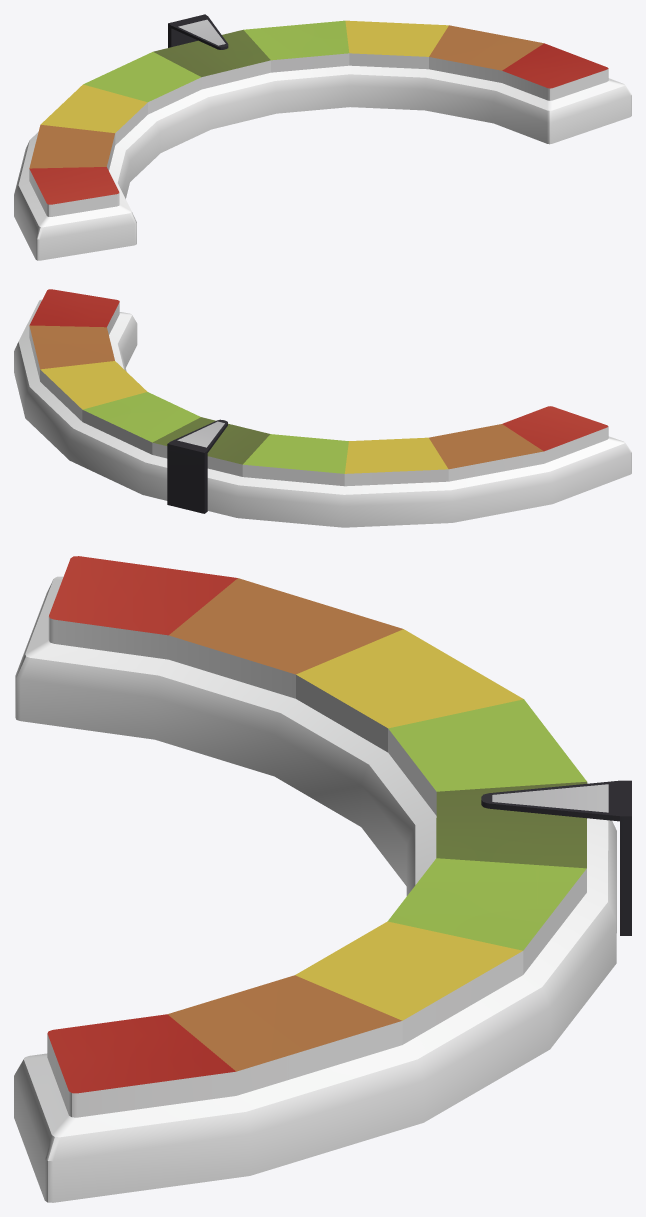
Rendered from DamageIndicator.fbx.
3 views of the same model, one above another, from view 1: azimuth 30°, elevation 25°; view 2: azimuth 150°, elevation 25°; view 3: azimuth 270°, elevation 25° (orthographic). The views are drawn at different scales.
Visible parts, largest first — view 1: DamageIndicator, Indicator; view 2: DamageIndicator, Indicator; view 3: DamageIndicator, Indicator.
Part boxes in pixels (x1,y1,x2,y2): DamageIndicator: (14, 20, 631, 260); Indicator: (168, 14, 228, 49); DamageIndicator: (14, 289, 631, 527); Indicator: (167, 419, 227, 513); DamageIndicator: (14, 556, 616, 1202); Indicator: (481, 780, 631, 935).
Size of the model in its own units: 197 by 19.29 by 90.13.
1 material, 1 textured.
